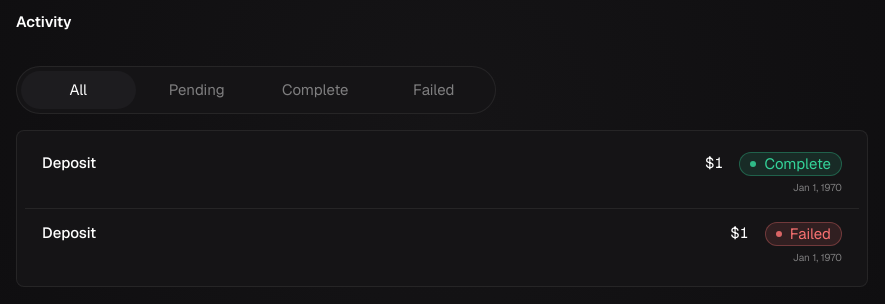
Scenario: <History> › filters in completed records when Complete is selected
Step 1. Click the tab "Complete" → point(315, 90), box x1=258 y1=70 x2=372 y2=109
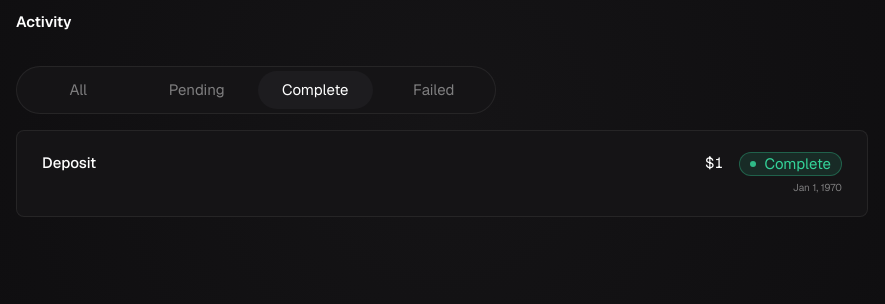
Expected: the number of messages is 1, x1=740 y1=152 x2=842 y2=176
